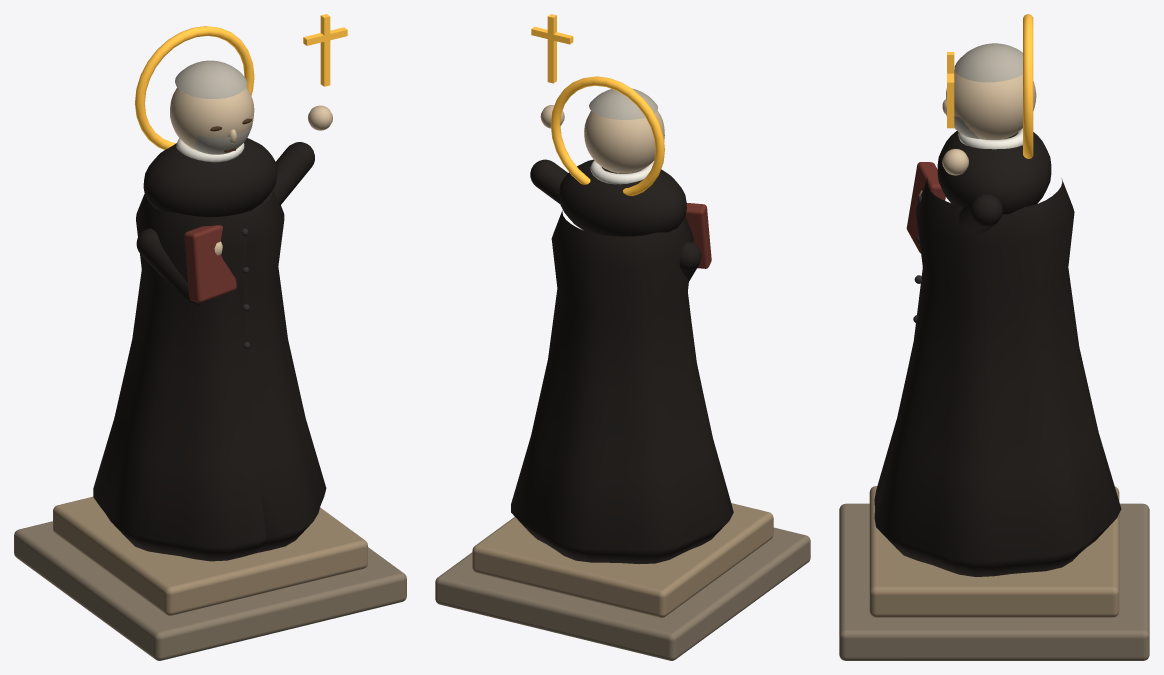
The model's file is statue-vinhson.glb.
The picture shows the model from 3 angles, left to right: view 1: azimuth 30°, elevation 25°; view 2: azimuth 150°, elevation 25°; view 3: azimuth 270°, elevation 25°; orthographic projection. The views are drawn at different scales.
Visible parts, largest first — view 1: Robe, PlinthLow, PlinthTop, Shoulders, Head, Book, object 24, Hair, ArmR, ArmL, Cross, Beard (+1 smaller); view 2: Robe, PlinthLow, PlinthTop, Shoulders, Head, object 24, Hair, Book, ArmR, Cross, object 9, ArmL; view 3: Robe, PlinthLow, PlinthTop, Shoulders, Head, Hair, object 24, ArmR, Book, object 9, Cross, HandR.
Boxes of the visible parts, bbox=[...] form: Robe: bbox=[93, 189, 326, 561]; PlinthLow: bbox=[14, 521, 406, 660]; PlinthTop: bbox=[53, 496, 367, 615]; Shoulders: bbox=[143, 138, 277, 216]; Head: bbox=[170, 87, 254, 149]; Book: bbox=[184, 225, 236, 302]; object 24: bbox=[135, 26, 254, 149]; Hair: bbox=[175, 60, 247, 98]; ArmR: bbox=[253, 142, 314, 209]; ArmL: bbox=[136, 228, 201, 305]; Cross: bbox=[303, 14, 347, 86]; Beard: bbox=[193, 123, 252, 154]; Robe: bbox=[511, 210, 733, 563]; PlinthLow: bbox=[435, 527, 810, 660]; PlinthTop: bbox=[472, 503, 773, 617]; Shoulders: bbox=[559, 159, 686, 236]; Head: bbox=[584, 110, 664, 173]; object 24: bbox=[550, 76, 664, 195]; Hair: bbox=[589, 88, 657, 119]; Book: bbox=[685, 203, 711, 268]; ArmR: bbox=[530, 159, 567, 203]; Cross: bbox=[531, 14, 573, 83]; object 9: bbox=[590, 160, 653, 184]; ArmL: bbox=[679, 241, 701, 281]; Robe: bbox=[874, 178, 1121, 576]; PlinthLow: bbox=[839, 503, 1149, 660]; PlinthTop: bbox=[869, 486, 1119, 617]; Shoulders: bbox=[937, 131, 1051, 214]; Head: bbox=[946, 70, 1036, 139]; Hair: bbox=[954, 43, 1022, 82]; object 24: bbox=[1023, 14, 1033, 158]; ArmR: bbox=[959, 194, 1002, 233]; Book: bbox=[906, 162, 945, 253]; object 9: bbox=[958, 128, 1022, 149]; Cross: bbox=[947, 52, 954, 128]; HandR: bbox=[942, 148, 968, 175].
Size of the model in its own units: 0.92 by 1.94 by 0.92.
